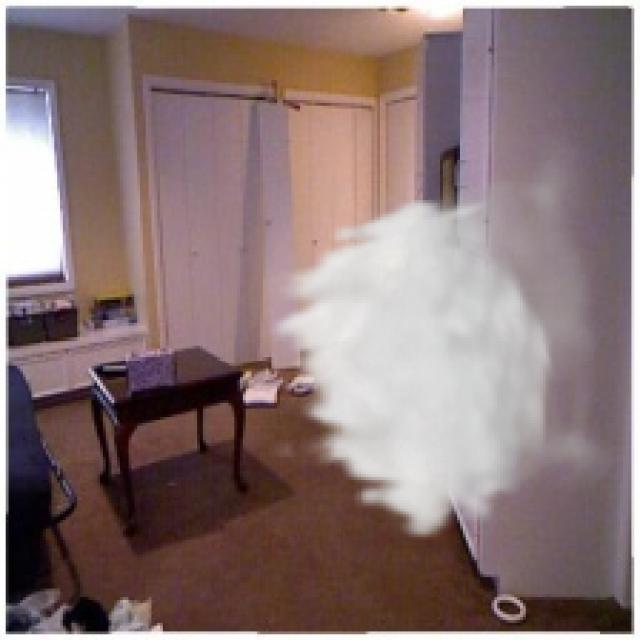Smoke: (263, 123, 623, 543)
